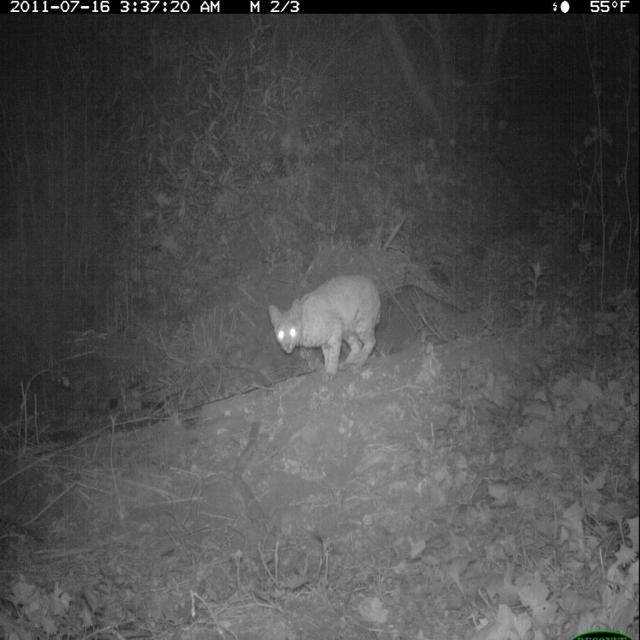bobcat: (264, 268, 388, 383)
